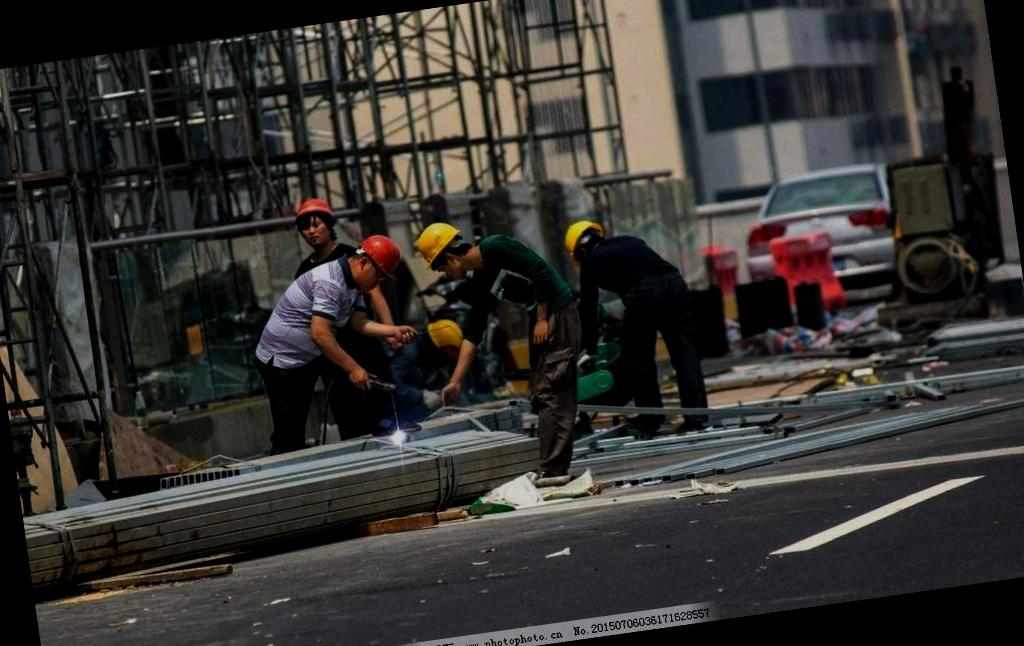person: (422, 205, 600, 499), (230, 228, 430, 443), (561, 203, 722, 448)
